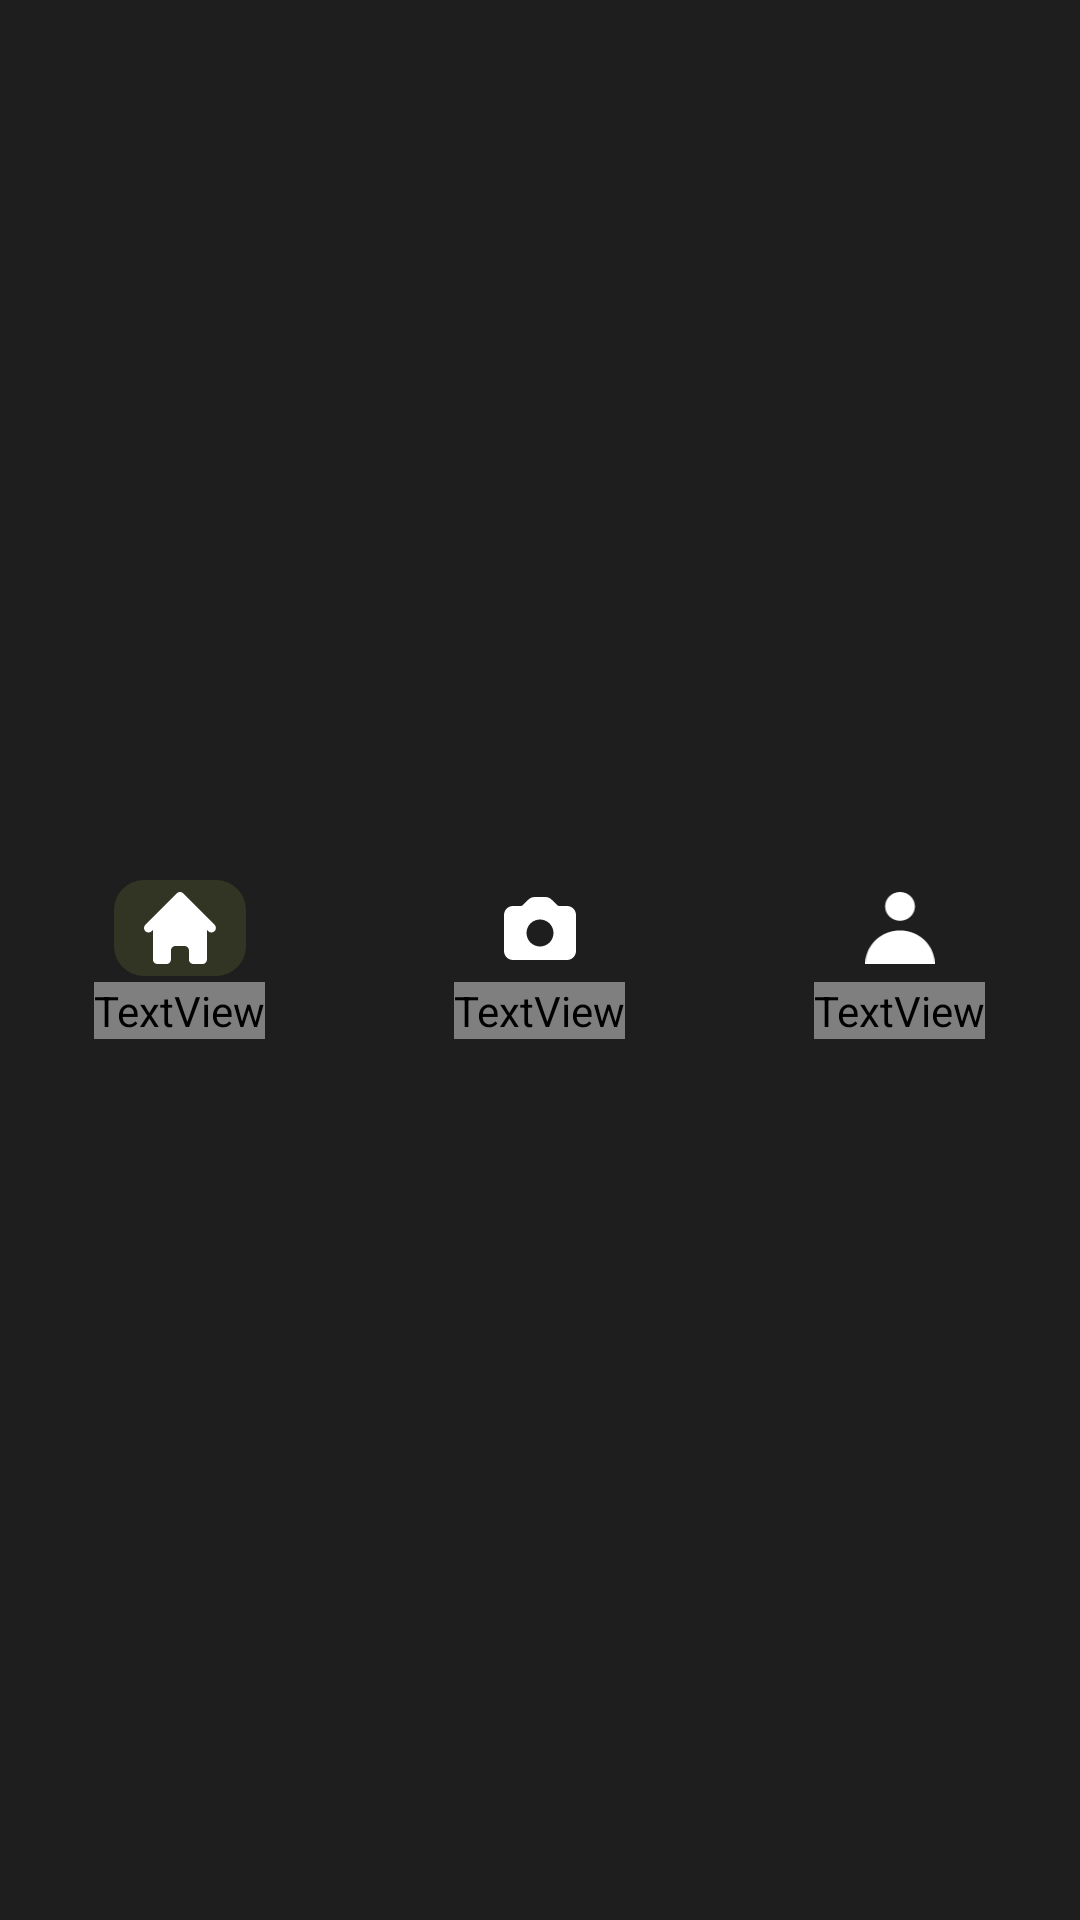

Locate icon controls on the screen. Image size 1080*1920, boxes as (x1, y1, x2, y2).
Home: (144, 892, 216, 964)
Profile: (865, 892, 935, 964)
Scan: (504, 897, 576, 960)
